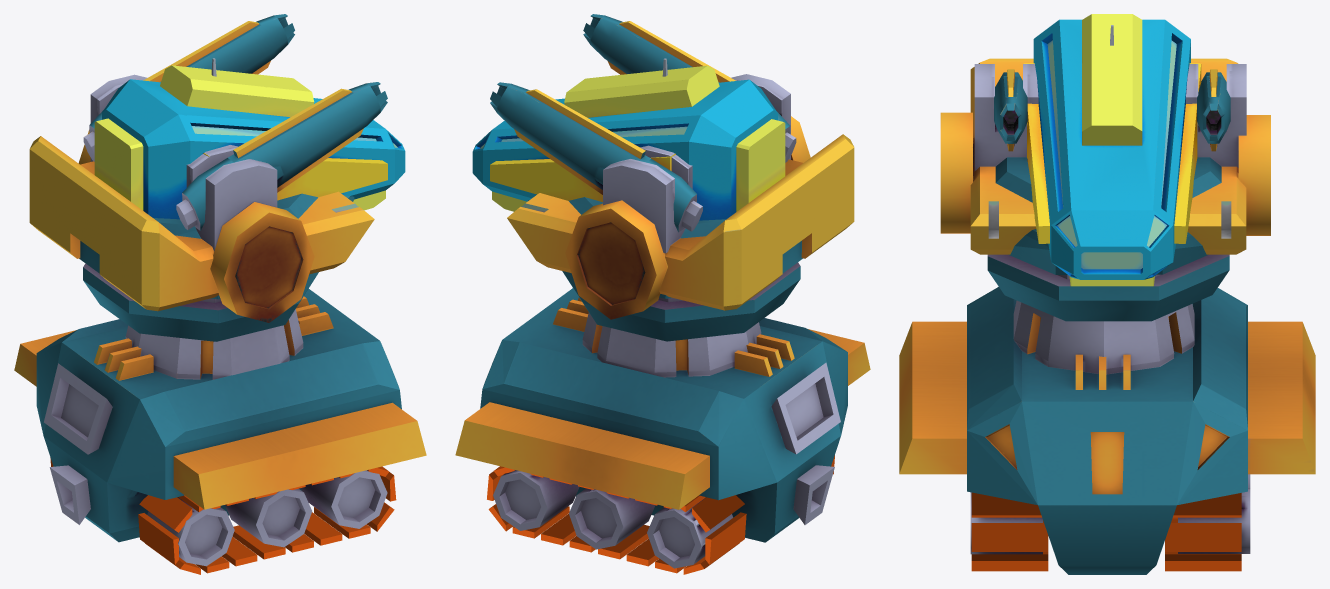
File: Player_Idle_1_Upgrade12.obj
3 views of the same model, side by side, from view 1: azimuth 30°, elevation 25°; view 2: azimuth 150°, elevation 25°; view 3: azimuth 270°, elevation 25° (orthographic). The views are drawn at different scales.
Parts seen in each view (by area): view 1: Object008, Object014, Box009, Box017; view 2: Object008, Object014, Box009, Box016; view 3: Object008, Box017, Box016, Object014, Box009.
Boxes of the visible parts, <box> form: Object008: <box>14,65,426,542</box>; Object014: <box>83,14,387,230</box>; Box009: <box>147,470,387,566</box>; Box017: <box>138,466,396,574</box>; Object008: <box>455,65,870,542</box>; Object014: <box>490,14,796,232</box>; Box009: <box>493,470,733,568</box>; Box016: <box>487,466,746,574</box>; Object008: <box>899,14,1315,574</box>; Box017: <box>971,492,1048,571</box>; Box016: <box>1165,493,1241,571</box>; Object014: <box>994,69,1230,151</box>; Box009: <box>970,474,1250,554</box>.
Bounding box in the file's own units: 65.77 × 86.35 × 66.14.
4 materials, 2 textured.
